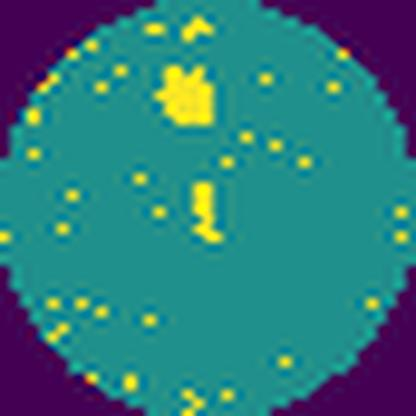Edge-Loc: (154, 62, 218, 126), (189, 181, 227, 245)
